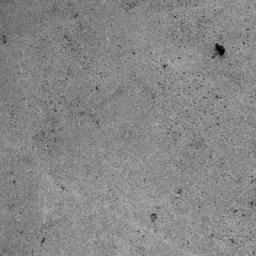FOD: (214, 40, 229, 58)
